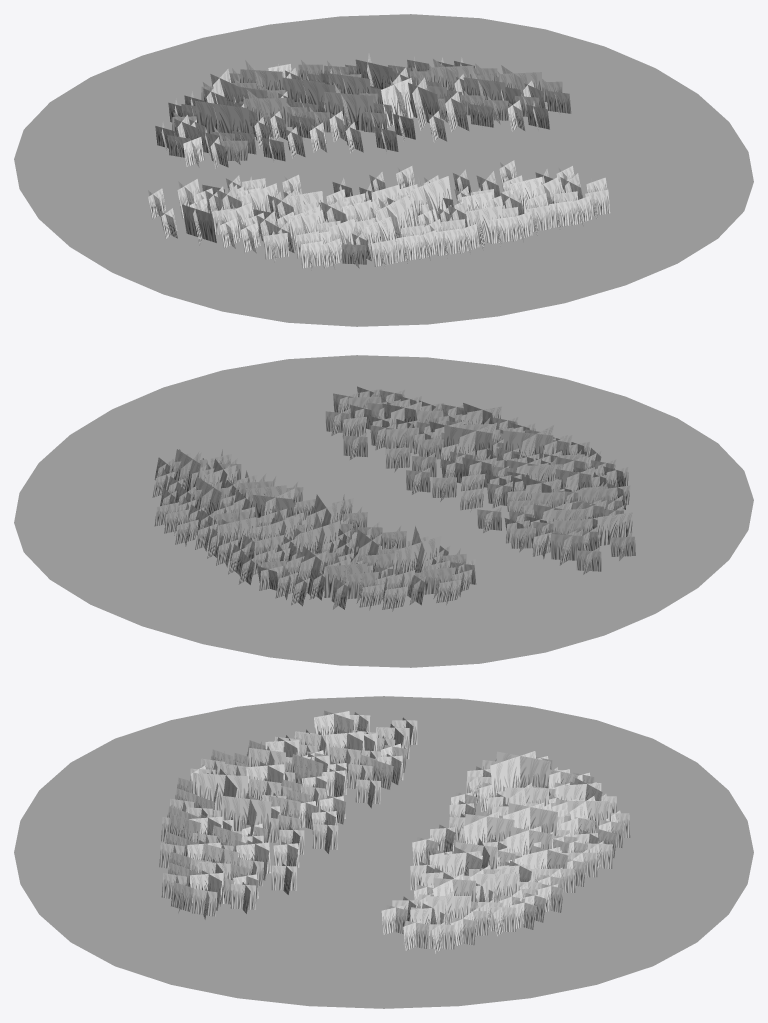
Rendered from susukihara.fbx.
3 renders of one model, top to bottom at view 1: azimuth 30°, elevation 25°; view 2: azimuth 150°, elevation 25°; view 3: azimuth 270°, elevation 25°, orthographic. The views are drawn at different scales.
Visible parts, largest first — view 1: pCube5, pCube109, pCube45, pCube135, pCube22, pCube23, pCube243, pCube65, pCube50, pCube196, pCube148, pCube11 (+18 smaller); view 2: pCube5, pCube109, pCube135, pCube196, pCube65, pCube243, pCube246, pCube22, pCube94, pCube86, pCube60, pCube38 (+19 smaller); view 3: pCube5, pCube109, pCube135, pCube196, pCube45, pCube65, pCube26, pCube38, pCube73, pCube23, pCube60, pCube86 (+33 smaller).
Part boxes in pixels (box(x1,y1,x2,y2)): pCube5: box(14, 14, 753, 326); pCube109: box(195, 94, 250, 133); pCube45: box(324, 82, 374, 130); pCube135: box(410, 176, 451, 226); pCube22: box(381, 78, 414, 127); pCube23: box(408, 77, 440, 130); pCube243: box(182, 198, 216, 245); pCube65: box(286, 73, 335, 111); pCube50: box(244, 90, 287, 138); pCube196: box(375, 195, 413, 237); pCube148: box(466, 203, 502, 250); pCube11: box(463, 68, 505, 102); pCube5: box(14, 355, 753, 667); pCube109: box(392, 526, 441, 574); pCube135: box(444, 422, 496, 462); pCube196: box(503, 424, 554, 458); pCube65: box(295, 512, 340, 553); pCube243: box(597, 509, 633, 546); pCube246: box(550, 529, 583, 565); pCube22: box(252, 488, 294, 517); pCube94: box(324, 553, 367, 597); pCube86: box(215, 509, 256, 552); pCube60: box(296, 546, 326, 598); pCube38: box(173, 449, 201, 491); pCube5: box(14, 696, 753, 1008); pCube109: box(490, 751, 550, 797); pCube135: box(220, 793, 271, 842); pCube196: box(196, 768, 248, 816); pCube45: box(463, 812, 514, 844); pCube65: box(503, 802, 557, 835); pCube26: box(476, 869, 519, 902); pCube38: box(427, 891, 470, 924); pCube73: box(506, 826, 552, 856); pCube23: box(439, 847, 482, 875); pCube60: box(567, 796, 610, 832); pCube86: box(522, 845, 568, 868).
Bounding box in the file's own units: 840 × 66.21 × 840.
2 materials, 1 textured.
